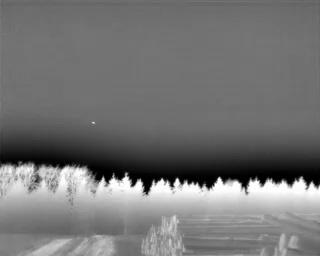AIRPLANE: (90, 119, 97, 126)
